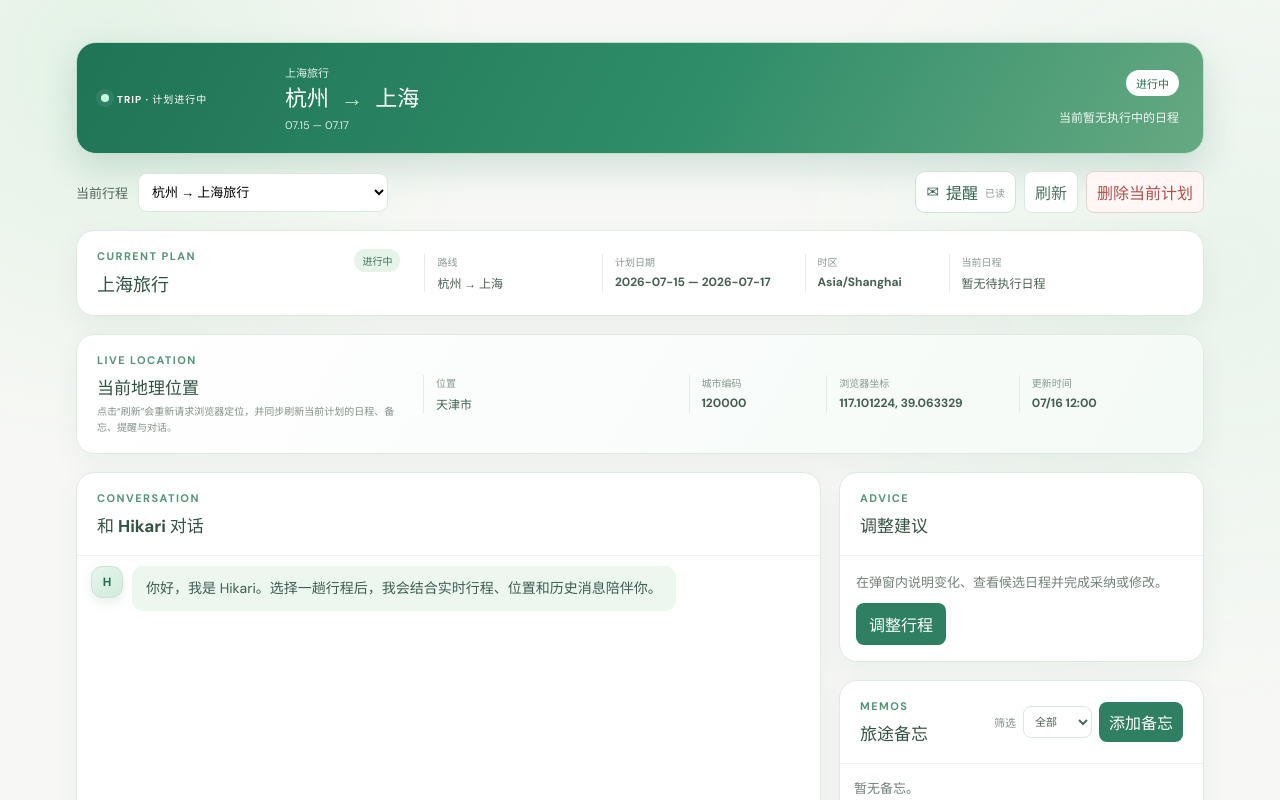
Scenario: Companion adjustment dialog › uses a single requirement field for a manual adjustment
The width and height of the screenshot is (1280, 800).
Click the button "调整行程" at (901, 624), box x1=856 y1=603 x2=946 y2=645
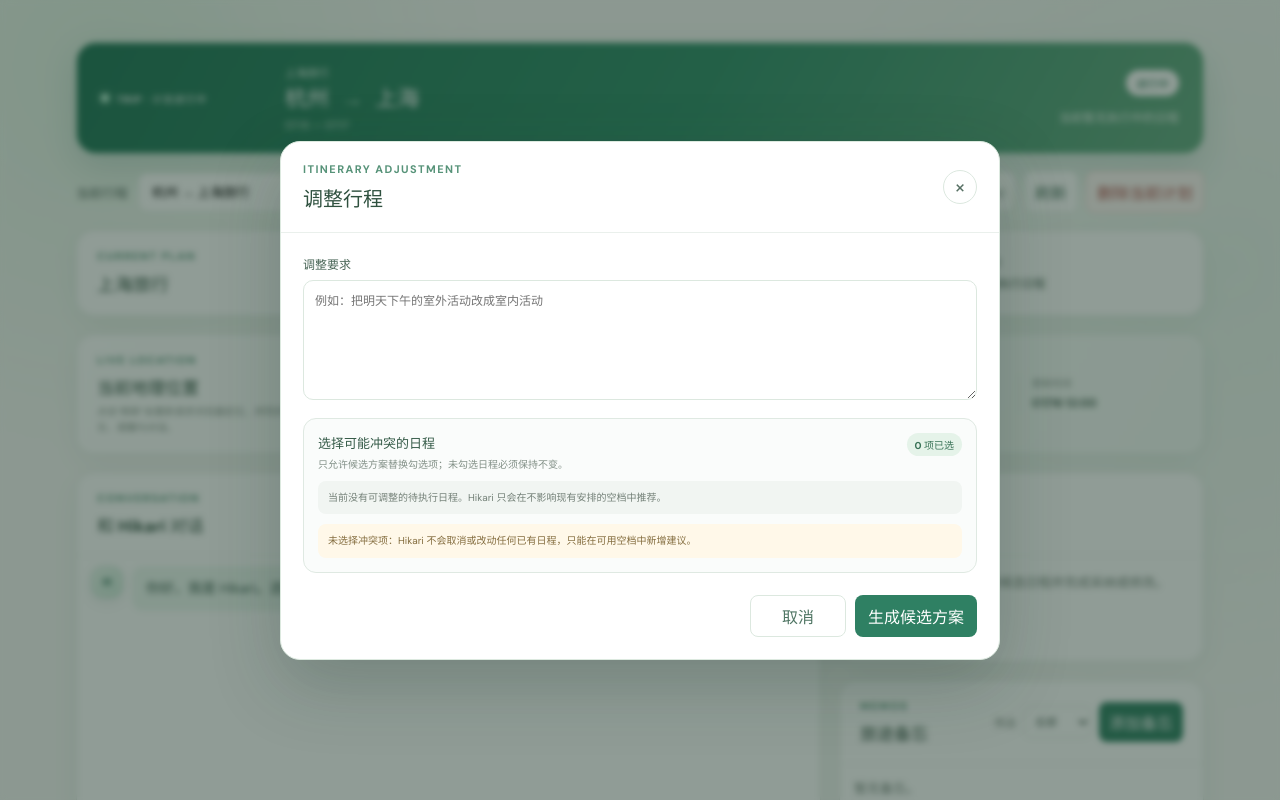
Now the number of text boxes is 1, box x1=303 y1=280 x2=977 y2=400
Now the text "调整要求" is shown, box x1=303 y1=254 x2=977 y2=400
